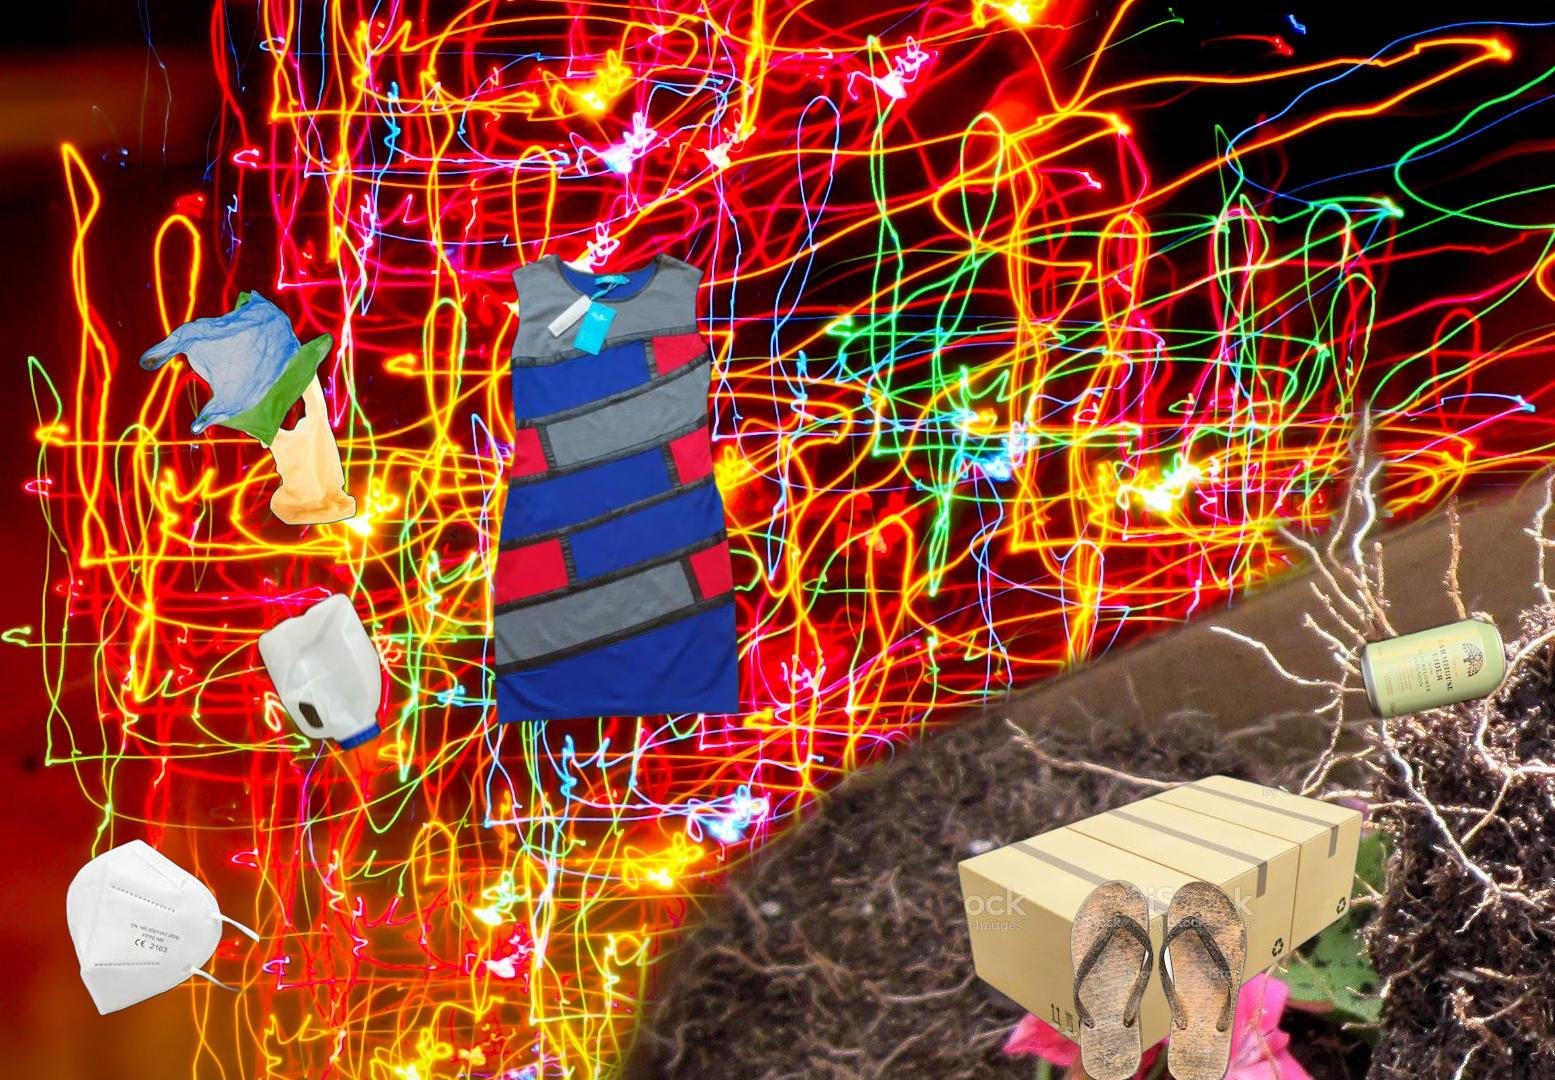clothes: (490, 247, 743, 730)
metal-cans: (1097, 612, 1512, 1080)
plastic-bag: (126, 286, 358, 528)
plastic-bottles: (254, 587, 388, 757)
shoes: (1068, 877, 1250, 1080)
trash: (63, 837, 259, 1019)
trashbox-cardboard: (173, 228, 1555, 1080), (951, 770, 1369, 1074)
